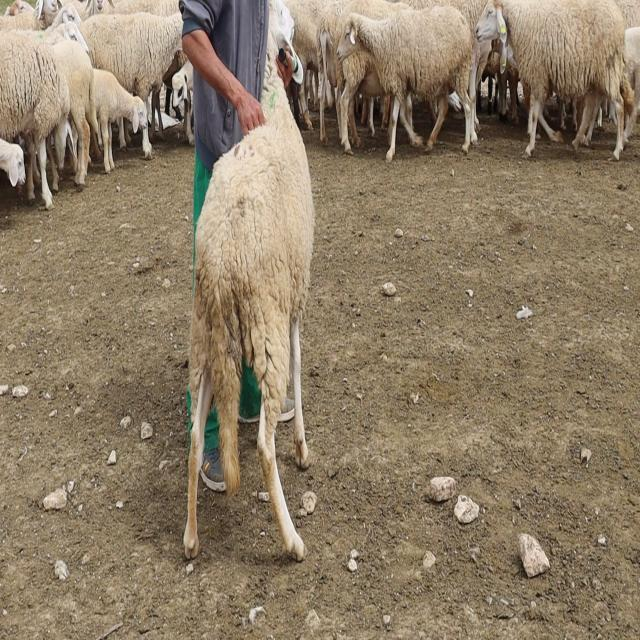Score_1: (183, 0, 314, 560)
